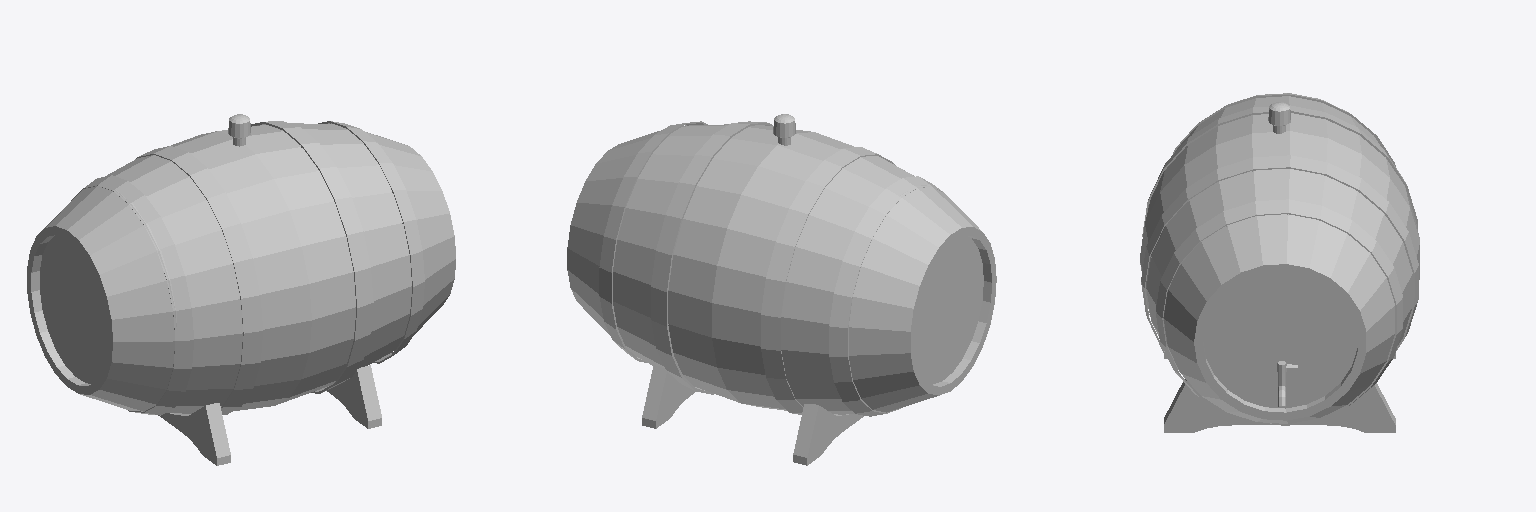
The model's file is barrel.obj.
3 renders of one model, left to right at view 1: azimuth 30°, elevation 25°; view 2: azimuth 150°, elevation 25°; view 3: azimuth 270°, elevation 25°, orthographic.
Visible parts, largest first — view 1: Barrel001; view 2: Barrel001; view 3: Barrel001.
Boxes of the visible parts, x1=… form: Barrel001: x1=27, y1=114, x2=455, y2=465; Barrel001: x1=567, y1=114, x2=996, y2=465; Barrel001: x1=1140, y1=93, x2=1419, y2=432.
Size of the model in its own units: 120 by 88.6 by 78.37.